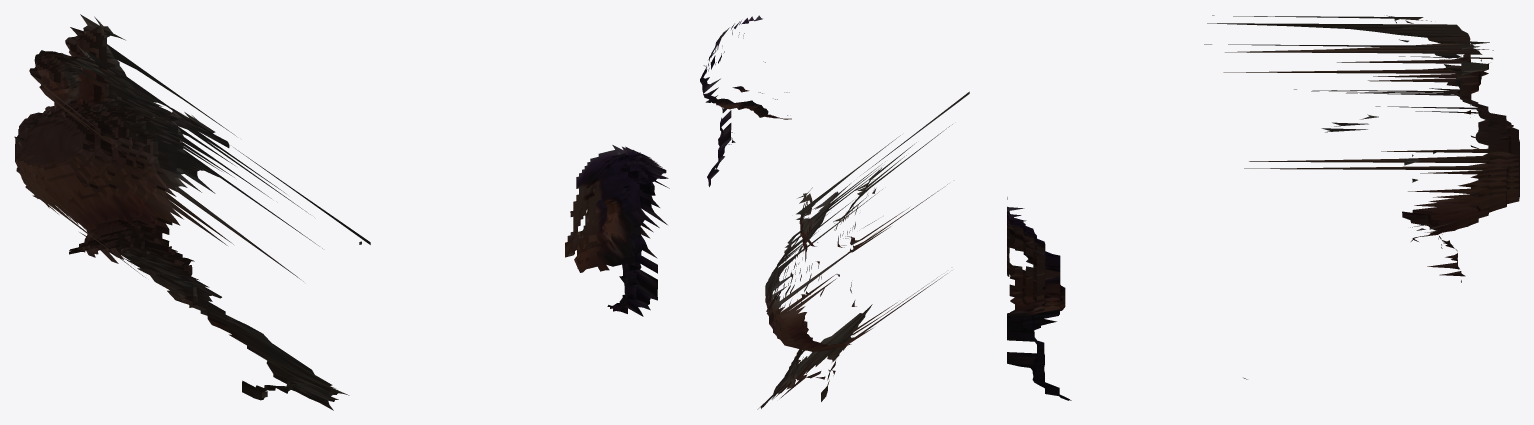
Rendered from frame_00351.glb.
3 views of the same model, side by side, from view 1: azimuth 30°, elevation 25°; view 2: azimuth 150°, elevation 25°; view 3: azimuth 270°, elevation 25° (orthographic). The views are drawn at different scales.
Visible parts, largest first — view 1: geometry_0; view 2: geometry_0; view 3: geometry_0.
Boxes of the visible parts, x1,y1,x2,y2 form: geometry_0: (14,14,669,410); geometry_0: (700,15,969,409); geometry_0: (1007,15,1519,400).
Bounding box in the file's own units: 0.1436 × 0.1114 × 0.16.
Materials: 1 (1 with a texture image).
